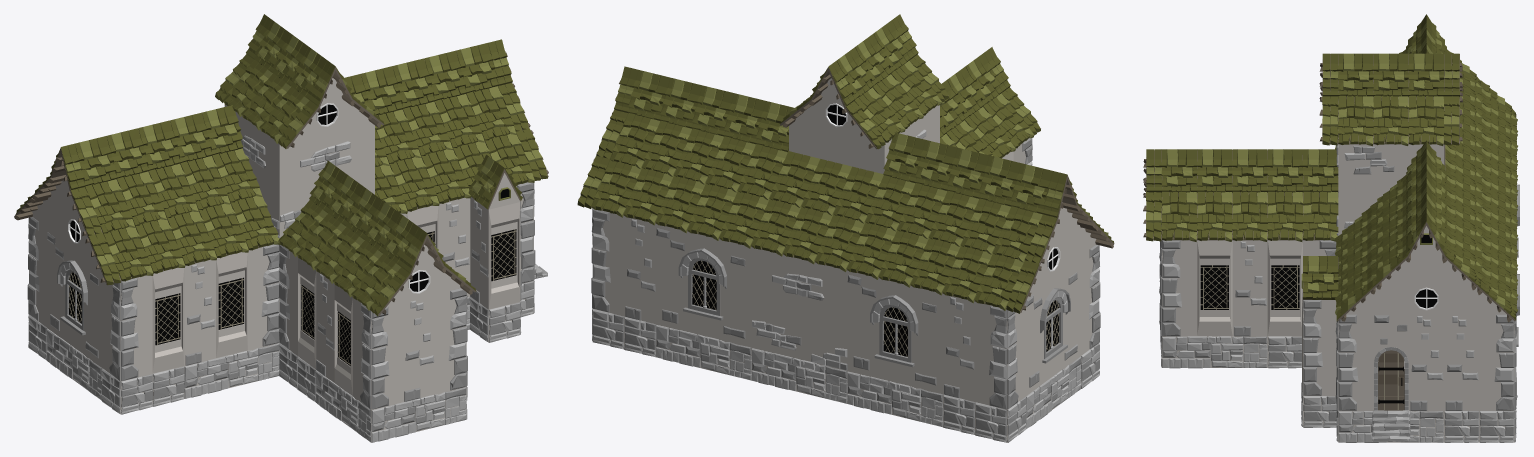
The model's file is House_13.glb.
The picture shows the model from 3 angles, left to right: view 1: azimuth 30°, elevation 25°; view 2: azimuth 150°, elevation 25°; view 3: azimuth 270°, elevation 25°; orthographic projection. The views are drawn at different scales.
Parts seen in each view (by area): view 1: WALL_03_2, WINDOW_03_19, WINDOW_04_5, WALL_05_6, WINDOW_04_9, FOUNDATION_03_2, FOUNDATION_03_4, WALL_05_2, WALL_07_2, WALL_06_3, WALL_06_9, WINDOW_04_8 (+77 smaller); view 2: WINDOW_03_17, WALL_03_4, WINDOW_03_18, WINDOW_03_19, WALL_06_12, WALL_06_13, WALL_05_8, FOUNDATION_03_6, WALL_07_8, FOUNDATION_03_8, FOUNDATION_03_7, WALL_07_7 (+66 smaller); view 3: WALL_01_2, WALL_06_11, WALL_06_10, DOOR_01_4, WALL_05_3, WALL_06_4, WINDOW_04_2, WALL_05_9, WALL_07_4, FOUNDATION_03_11, WINDOW_04_3, WALL_05_4 (+73 smaller).
Boxes of the visible parts, bbox=[...] form: WALL_03_2: bbox=[279, 121, 374, 236]; WINDOW_03_19: bbox=[47, 228, 102, 367]; WINDOW_04_5: bbox=[488, 202, 520, 309]; WALL_05_6: bbox=[120, 275, 152, 381]; WINDOW_04_9: bbox=[152, 267, 184, 373]; FOUNDATION_03_2: bbox=[371, 386, 466, 442]; FOUNDATION_03_4: bbox=[184, 343, 279, 398]; WALL_05_2: bbox=[371, 302, 403, 409]; WALL_07_2: bbox=[435, 288, 467, 393]; WALL_06_3: bbox=[403, 294, 434, 401]; WALL_06_9: bbox=[184, 260, 215, 365]; WINDOW_04_8: bbox=[216, 252, 247, 357]; WINDOW_03_17: bbox=[847, 271, 943, 393]; WALL_03_4: bbox=[752, 247, 847, 370]; WINDOW_03_18: bbox=[656, 224, 751, 347]; WINDOW_03_19: bbox=[1025, 256, 1080, 395]; WALL_06_12: bbox=[943, 294, 975, 401]; WALL_06_13: bbox=[624, 216, 656, 323]; WALL_05_8: bbox=[592, 208, 624, 315]; FOUNDATION_03_6: bbox=[847, 371, 943, 427]; WALL_07_8: bbox=[975, 302, 1007, 409]; FOUNDATION_03_8: bbox=[656, 324, 751, 380]; FOUNDATION_03_7: bbox=[752, 347, 847, 403]; WALL_07_7: bbox=[1081, 244, 1100, 355]; WALL_01_2: bbox=[1338, 144, 1444, 235]; WALL_06_11: bbox=[1444, 314, 1479, 410]; WALL_06_10: bbox=[1409, 314, 1444, 410]; DOOR_01_4: bbox=[1373, 314, 1408, 410]; WALL_05_3: bbox=[1162, 240, 1197, 336]; WALL_06_4: bbox=[1232, 240, 1267, 336]; WINDOW_04_2: bbox=[1197, 240, 1232, 335]; WALL_05_9: bbox=[1338, 314, 1373, 410]; WALL_07_4: bbox=[1479, 314, 1514, 410]; FOUNDATION_03_11: bbox=[1162, 336, 1267, 368]; WINDOW_04_3: bbox=[1267, 240, 1302, 335]; WALL_05_4: bbox=[1303, 300, 1336, 395].
Size of the model in its own units: 14.56 by 9.14 by 10.68.
Materials: 1 (1 with a texture image).
